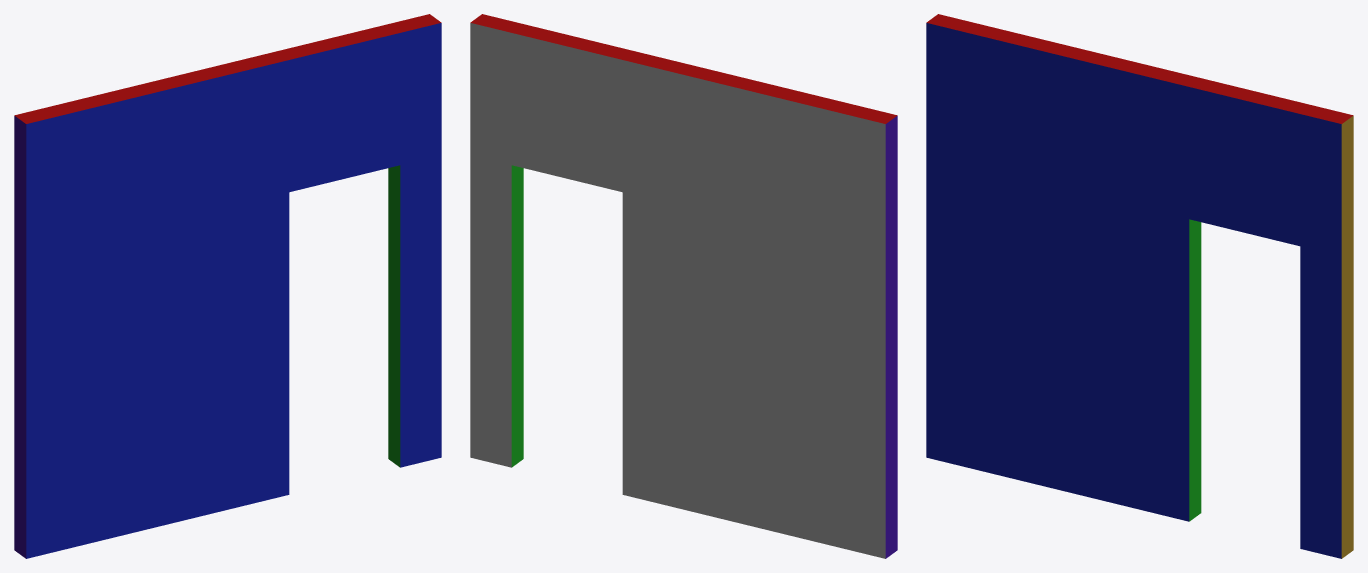
File: Wall_Door_03a_L.fbx
3 renders of one model, left to right at view 1: azimuth 30°, elevation 25°; view 2: azimuth 150°, elevation 25°; view 3: azimuth 330°, elevation 25°, orthographic.
Visible parts, largest first — view 1: Wall_Door_03a_L; view 2: Wall_Door_03a_L; view 3: Wall_Door_03a_L.
Boxes of the visible parts, x1,y1,x2,y2 form: Wall_Door_03a_L: (14,14,441,558); Wall_Door_03a_L: (470,14,897,558); Wall_Door_03a_L: (926,14,1353,558).
Size of the model in its own units: 3 by 0.15 by 3.
